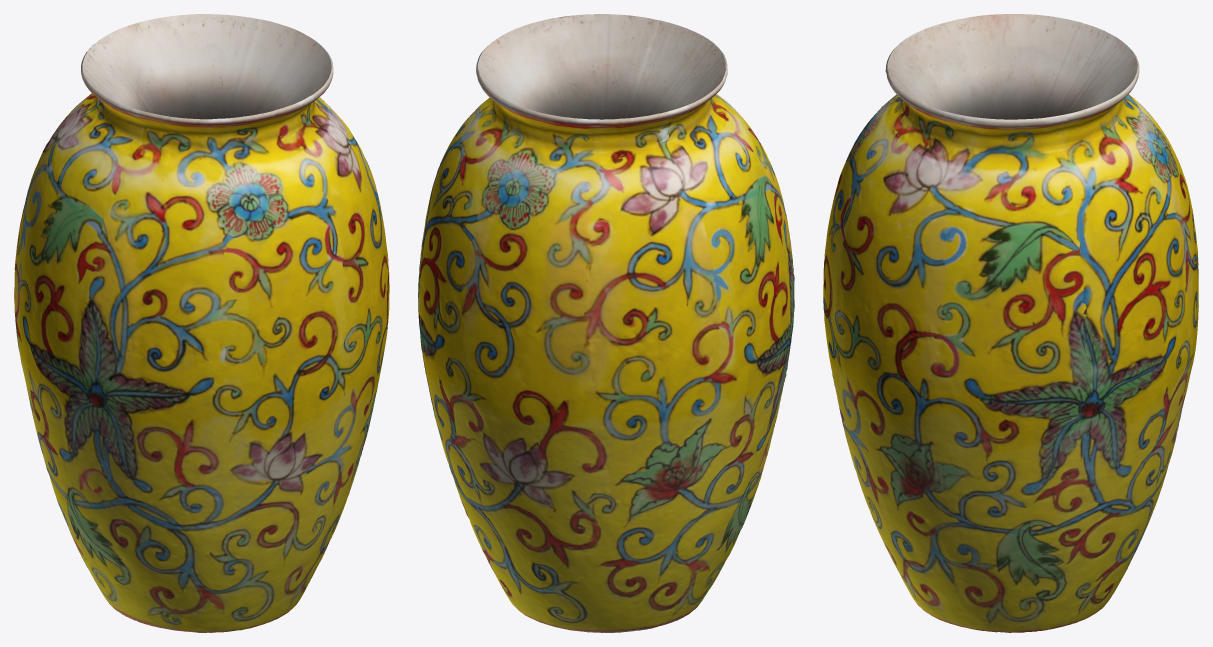
The model's file is bat_trang_pottery.glb.
3 renders of one model, left to right at view 1: azimuth 30°, elevation 25°; view 2: azimuth 150°, elevation 25°; view 3: azimuth 270°, elevation 25°, orthographic.
Visible parts, largest first — view 1: BT1_3; view 2: BT1_3; view 3: BT1_3.
Part boxes in pixels (x1,y1,x2,y2): BT1_3: [14, 14, 389, 632]; BT1_3: [418, 14, 794, 632]; BT1_3: [823, 14, 1198, 632].
Size of the model in its own units: 0.3063 by 0.4721 by 0.3047.
1 material, 1 textured.
